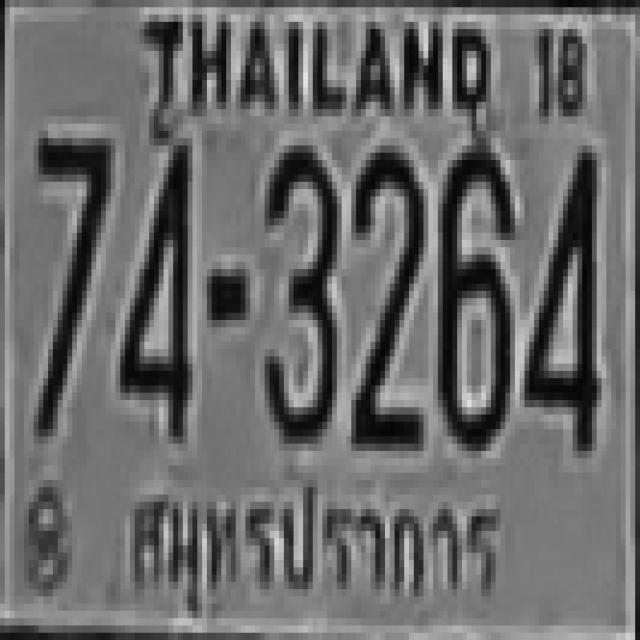2: (349, 146, 421, 444), (349, 142, 421, 418)
3: (260, 138, 337, 436)
4: (520, 142, 596, 447), (116, 134, 188, 432)
6: (433, 138, 510, 444)
7: (32, 131, 108, 429)
SamutPrakan: (114, 470, 513, 627)
